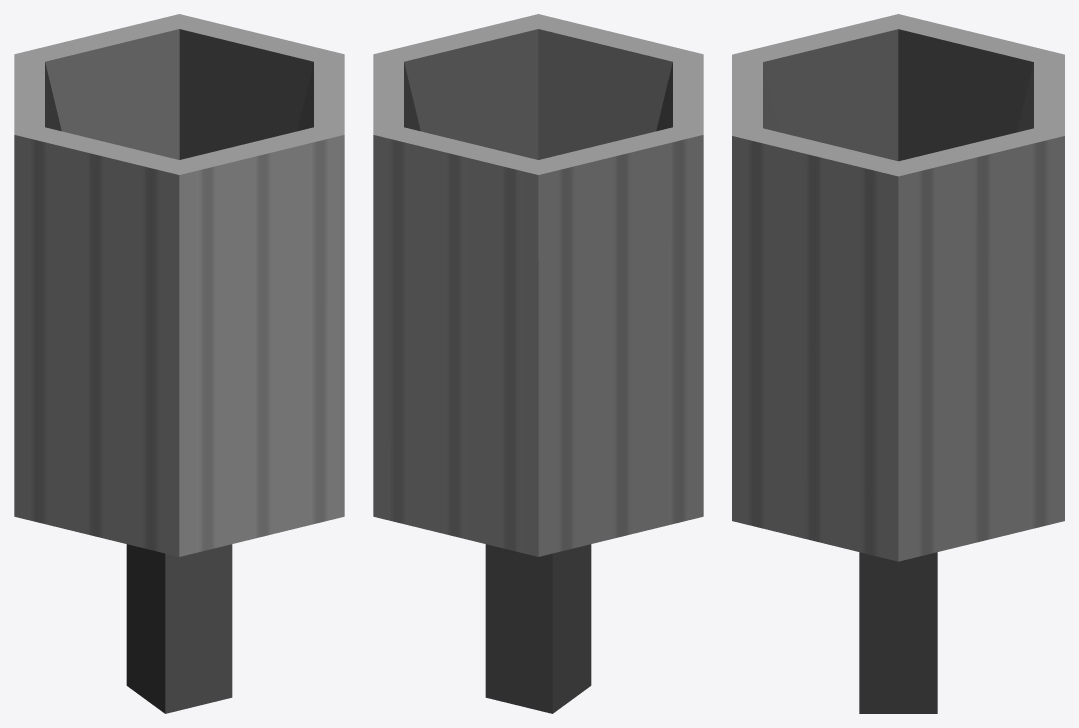
File: SM_ParkBin_Metal_01.fbx
3 renders of one model, left to right at view 1: azimuth 30°, elevation 25°; view 2: azimuth 150°, elevation 25°; view 3: azimuth 270°, elevation 25°, orthographic.
Visible parts, largest first — view 1: SM_ParkBin_Metal_01; view 2: SM_ParkBin_Metal_01; view 3: SM_ParkBin_Metal_01.
Part boxes in pixels (left/top/right/bottom): SM_ParkBin_Metal_01: left=14, top=14, right=344, bottom=713; SM_ParkBin_Metal_01: left=373, top=14, right=703, bottom=713; SM_ParkBin_Metal_01: left=732, top=14, right=1064, bottom=713.
Bounding box in the file's own units: 0.9808 × 1.7 × 0.8494.
